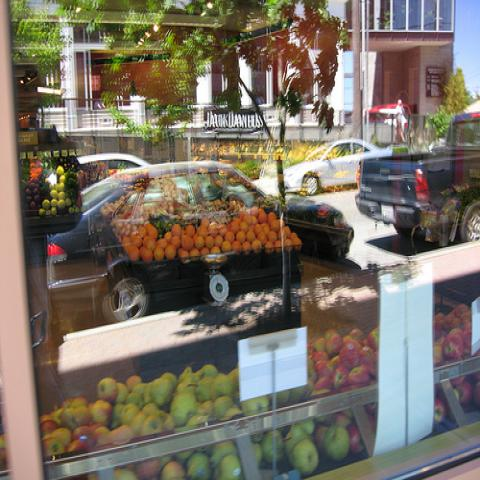car: (47, 159, 356, 262), (283, 138, 394, 196), (81, 154, 145, 182), (368, 102, 415, 130)
truck: (353, 110, 479, 255)
